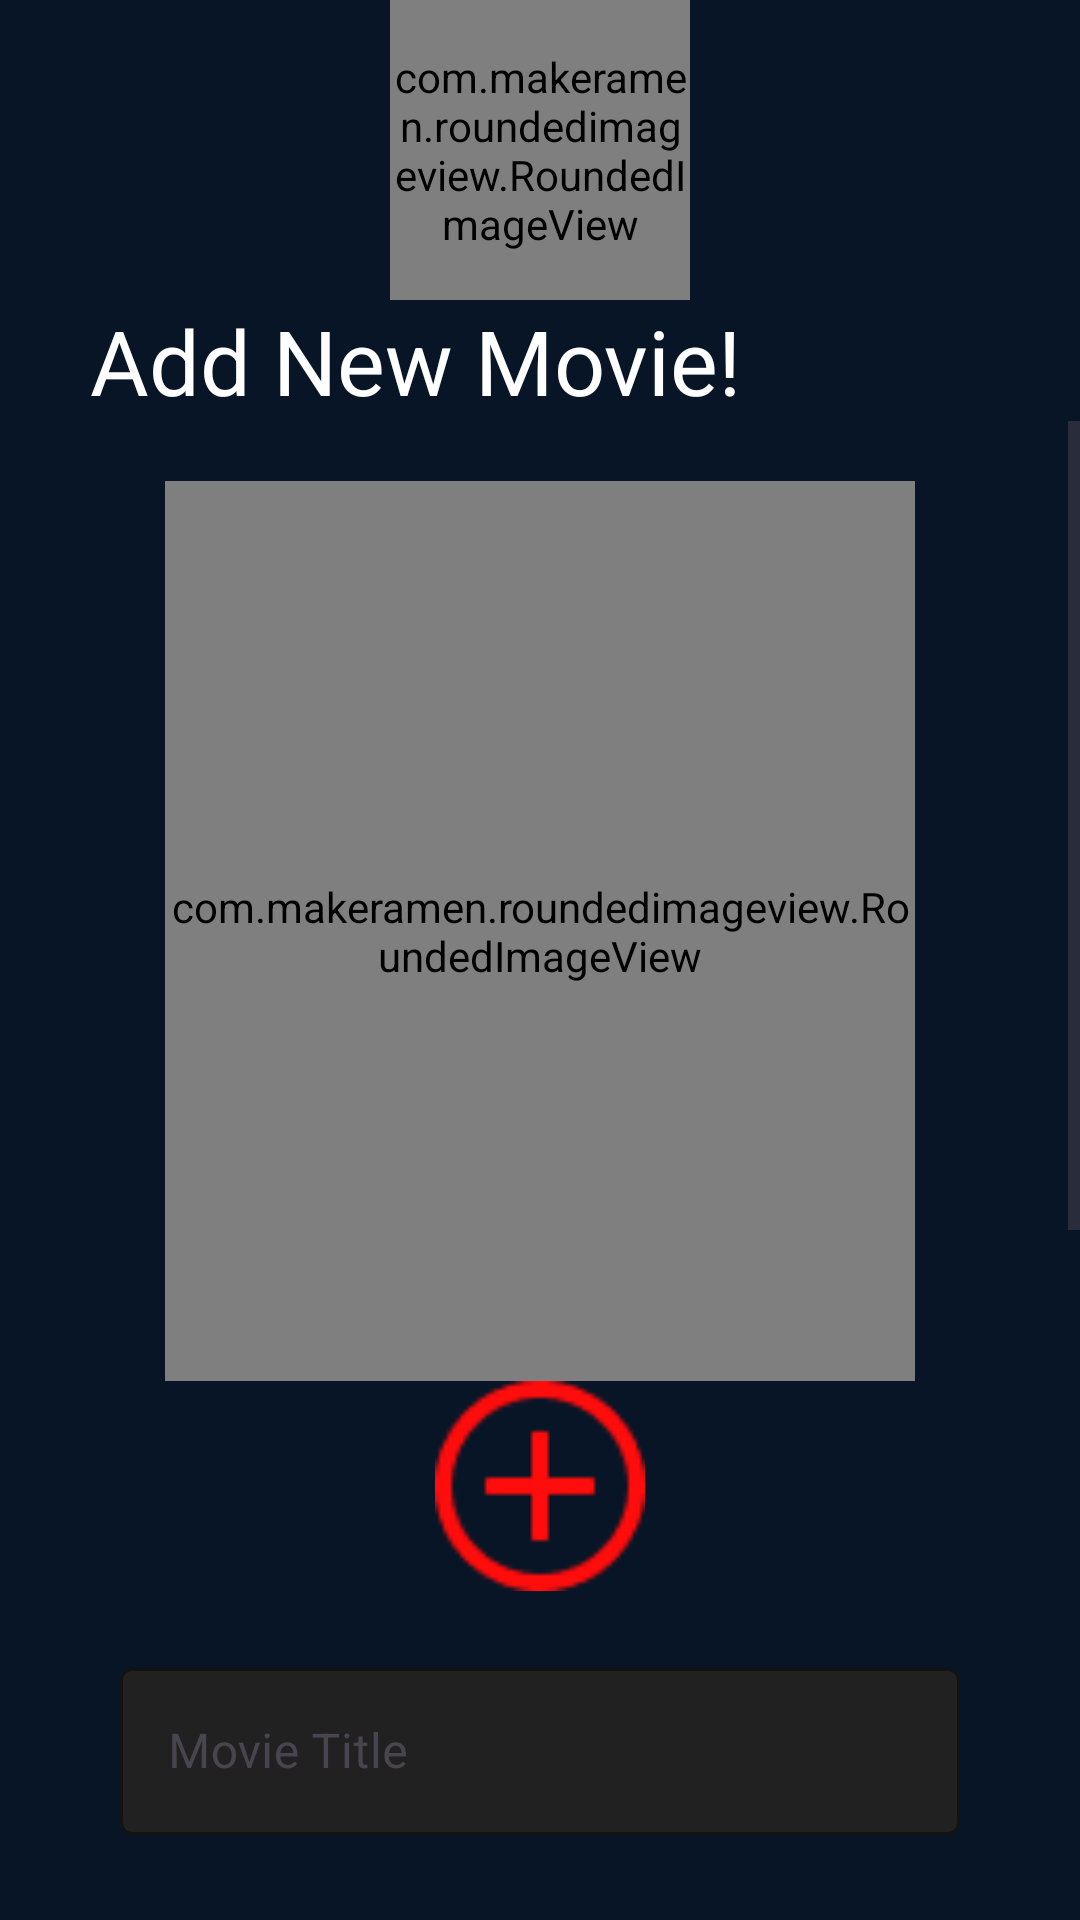

Named icons in this screenshot (1080x1920) and their centers, (x=x, y=y):
tambahhh: (x=540, y=1486)
